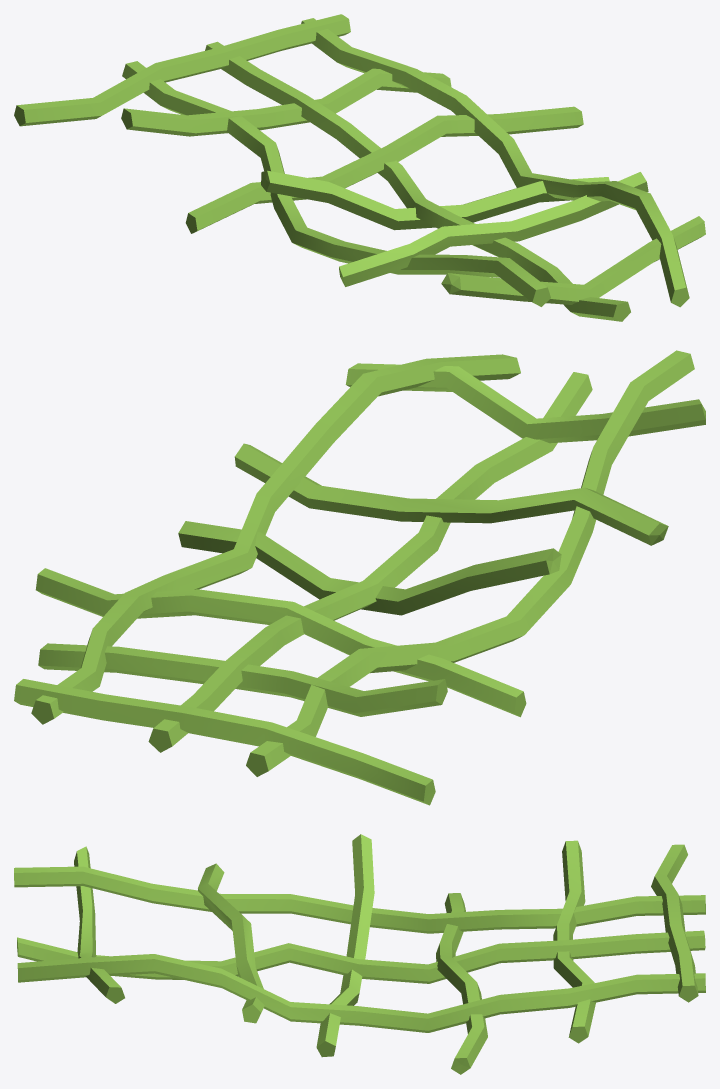
Rendered from mesh_Rebar2_v2.fbx.
3 renders of one model, top to bottom at view 1: azimuth 30°, elevation 25°; view 2: azimuth 150°, elevation 25°; view 3: azimuth 270°, elevation 25°, orthographic. The views are drawn at different scales.
Visible parts, largest first — view 1: mesh_Rebar2_v2_0; view 2: mesh_Rebar2_v2_0; view 3: mesh_Rebar2_v2_0.
Boxes of the visible parts, left/top/right/bottom form: mesh_Rebar2_v2_0: left=14, top=14, right=705, bottom=321; mesh_Rebar2_v2_0: left=14, top=350, right=705, bottom=805; mesh_Rebar2_v2_0: left=14, top=834, right=705, bottom=1074.
Bounding box in the file's own units: 96.6 × 20.53 × 145.
